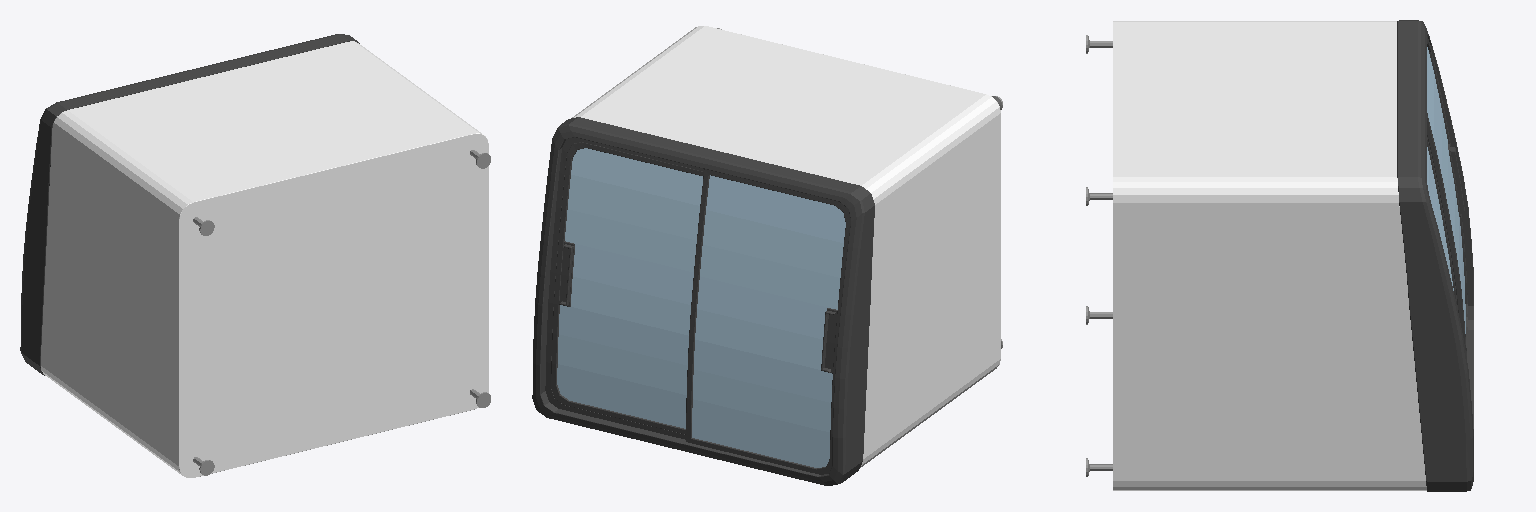
The robot description file, URDF, robot "640":
<robot name="640">


	<link name="0:virtual">
		<visual>
			<origin xyz="0.0 0.0 0.0" rpy="0 0 0"/>
			<geometry>
				<cylinder length="0" radius="0"/>
			</geometry>
		</visual>
	</link>


	<link name="1:static">
		<visual>
			<origin xyz="-0.0 -0.0 -0.0" rpy="0 0 0"/>
			<geometry>
				<mesh filename="../raw_data/640/part_meshes/1.dae" />
			</geometry>
		</visual>
	</link>


	<link name="2:lid panel 1">
		<visual>
			<origin xyz="0.245004846714437 -0.9441674947738647 -0.00013649463653564453" rpy="0 0 0"/>
			<geometry>
				<mesh filename="../raw_data/640/part_meshes/2.dae" />
			</geometry>
		</visual>
	</link>


	<link name="3:lid panel 2">
		<visual>
			<origin xyz="-0.2378335613757372 -0.9302780032157898 -0.0001359879970550537" rpy="0 0 0"/>
			<geometry>
				<mesh filename="../raw_data/640/part_meshes/3.dae" />
			</geometry>
		</visual>
	</link>


	<joint name="0:virtual::1:static" type="fixed">
		<parent link="0:virtual"/>
		<child link="1:static"/>
		<origin xyz="0.0 0.0 0.0" rpy="0 0 0"/>
	</joint>


	<joint name="0:virtual::2:lid panel 1_translation" type="prismatic">
		<parent link="0:virtual"/>
		<child link="2:lid panel 1"/>
		<origin xyz="-0.245004846714437 0.9441674947738647 0.00013649463653564453" rpy="0 0 0"/>
		<limit lower="-0.5349349975585938" upper="0.5349349975585938" effort="10" velocity="3"/>
		<axis xyz="-1.0 0.0 0.0"/>
	</joint>


	<joint name="0:virtual::3:lid panel 2_translation" type="prismatic">
		<parent link="0:virtual"/>
		<child link="3:lid panel 2"/>
		<origin xyz="0.2378335613757372 0.9302780032157898 0.0001359879970550537" rpy="0 0 0"/>
		<limit lower="-0.5349349975585938" upper="0.5349349975585938" effort="10" velocity="3"/>
		<axis xyz="-1.0 0.0 0.0"/>
	</joint>


</robot>

--- What the picture shows (computed from the rendered views, not written in the file) ---
3 views of the same robot in one strip: view 1: azimuth 30°, elevation 25°; view 2: azimuth 150°, elevation 25°; view 3: azimuth 270°, elevation 25° (orthographic).
Model 640 with 4 links and 3 joints (2 prismatic, 1 fixed), rooted at 0:virtual, posed all joints at 0.
Links seen in each view (by area): view 1: 1:static; view 2: 1:static, 3:lid panel 2, 2:lid panel 1; view 3: 1:static, 2:lid panel 1, 3:lid panel 2.
Boxes of the visible links, bbox=[...] form: 1:static: bbox=[20, 34, 490, 477]; 1:static: bbox=[532, 26, 1002, 485]; 3:lid panel 2: bbox=[551, 142, 703, 434]; 2:lid panel 1: bbox=[692, 175, 845, 467]; 1:static: bbox=[1086, 20, 1473, 491]; 2:lid panel 1: bbox=[1427, 47, 1465, 333]; 3:lid panel 2: bbox=[1427, 137, 1457, 308].
Size in the robot's own frame: 1.07 by 1.02 by 0.91 metres.
Meshes: 3 distinct files referenced, 3 mesh visuals loaded (3 Collada DAE).